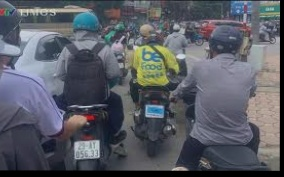Bien-so: (87, 146, 113, 166)
